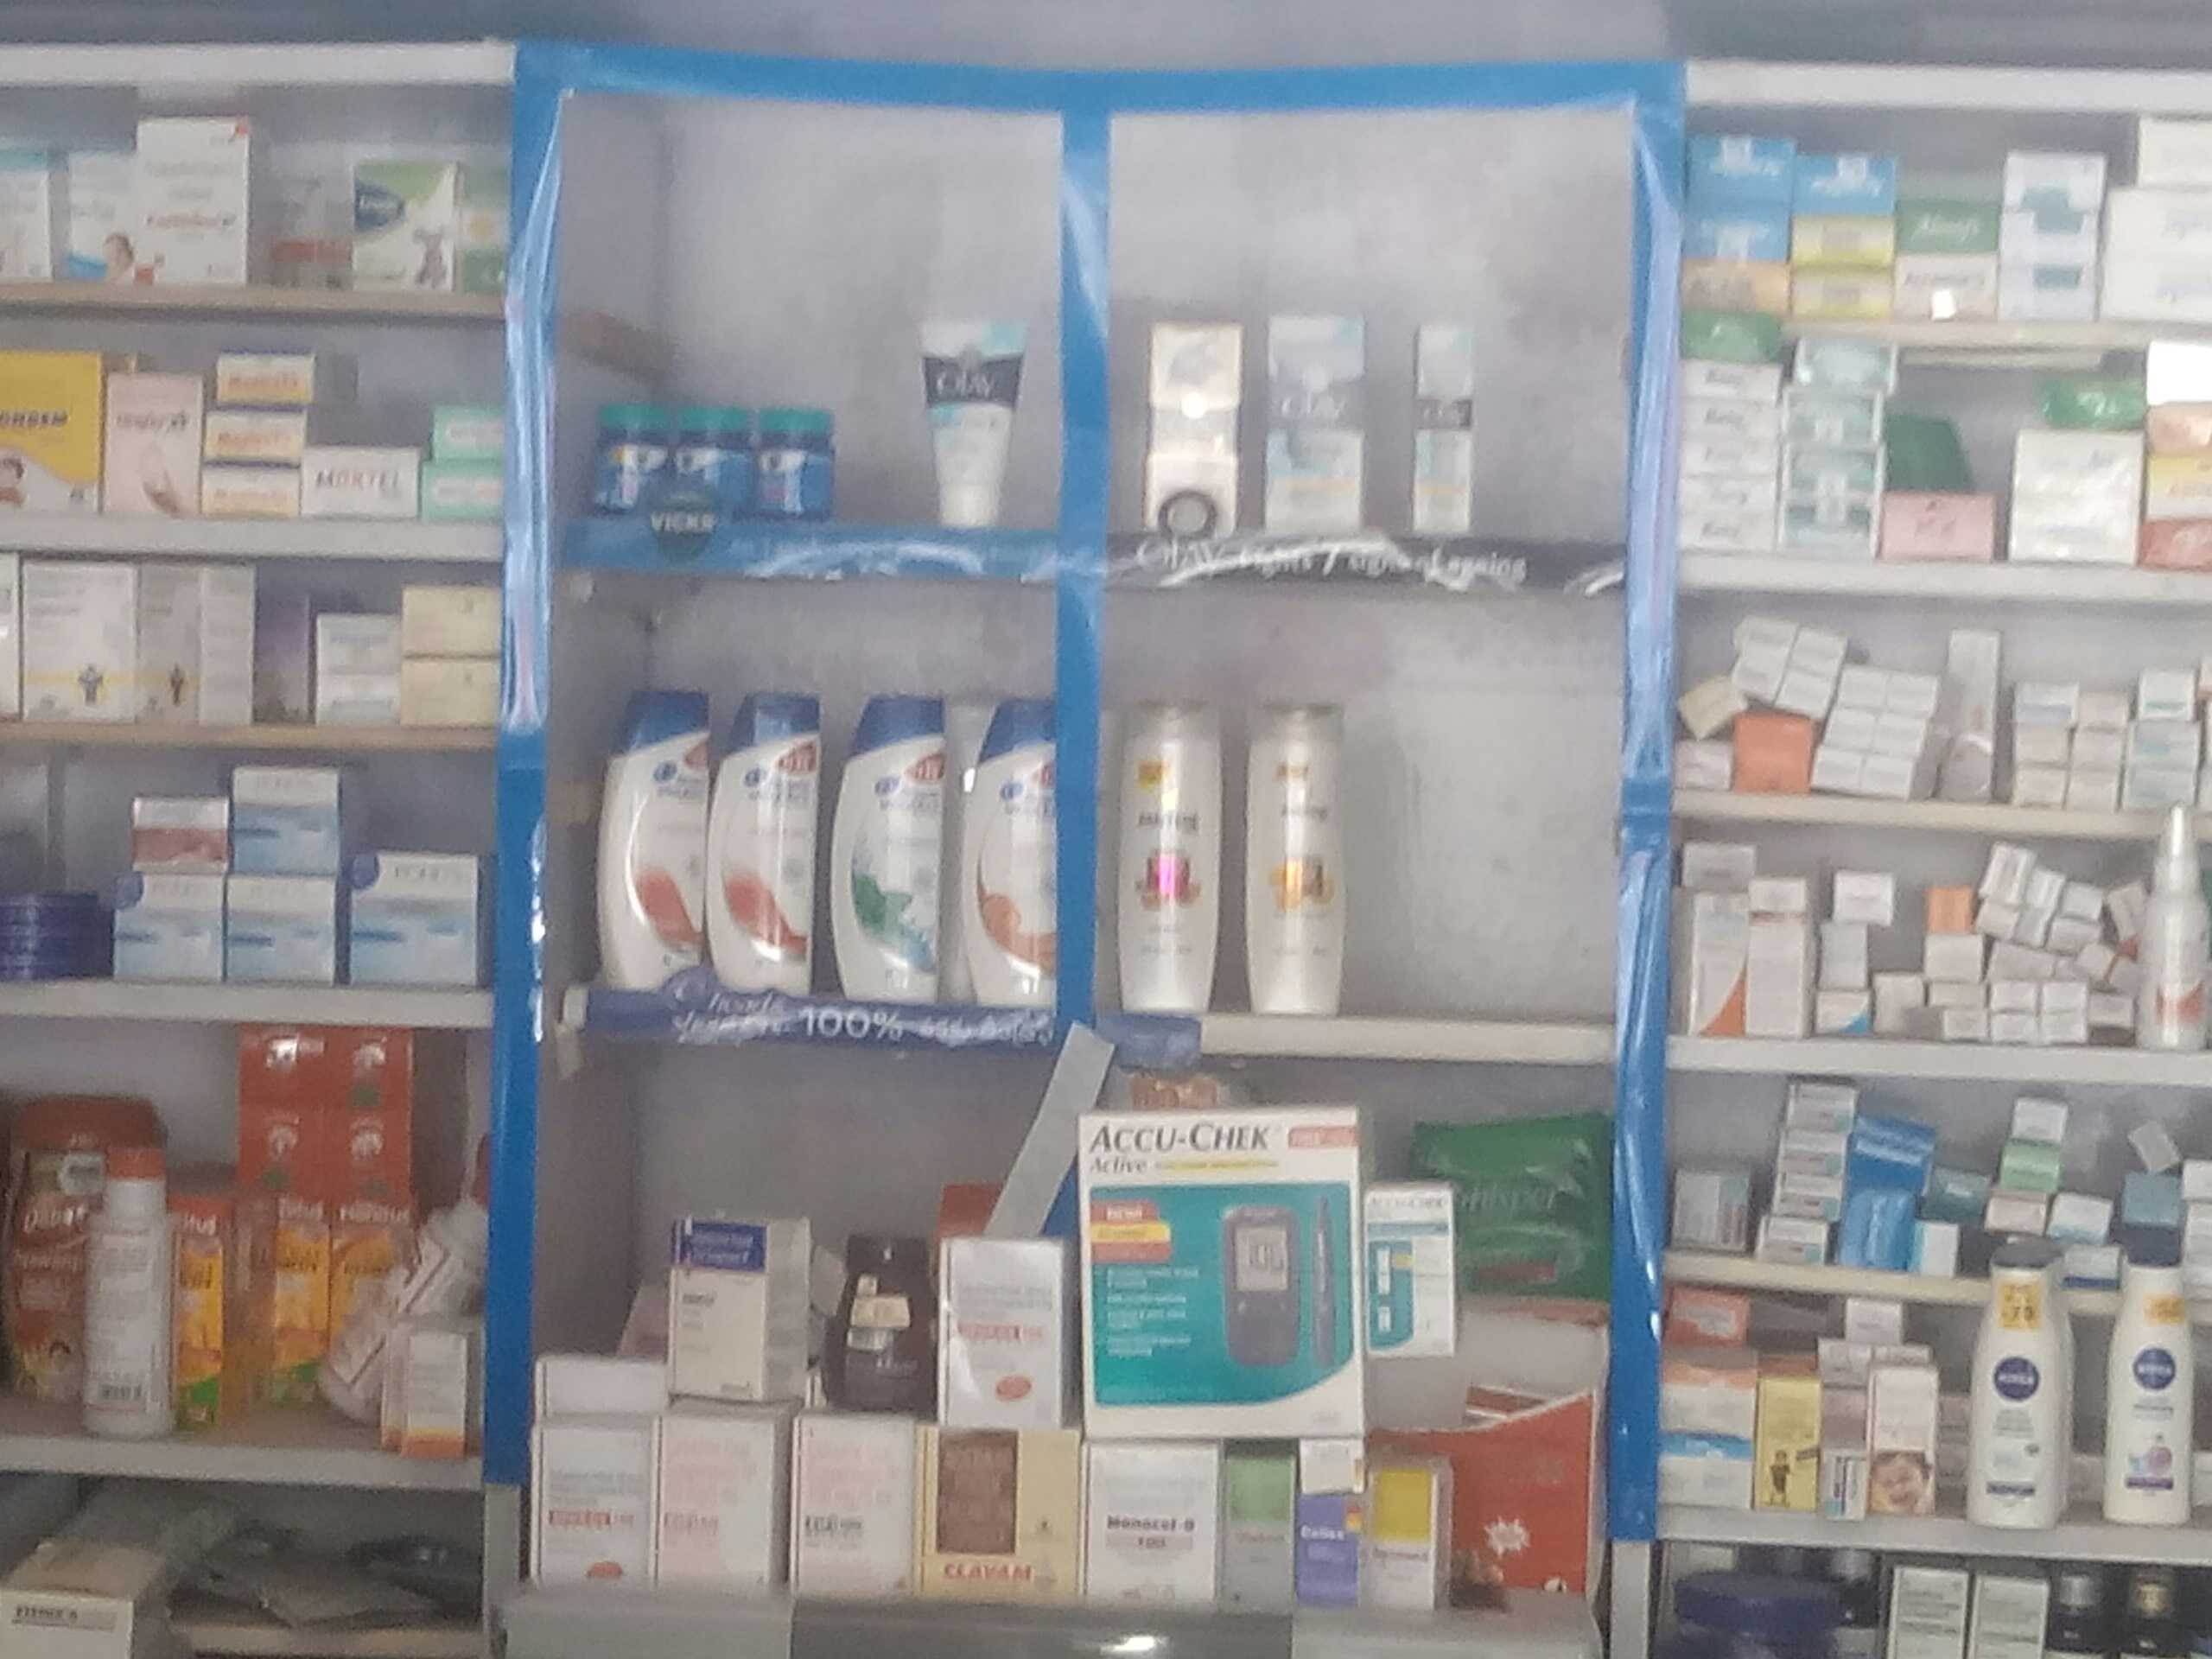beauty: (822, 688, 946, 1026), (937, 702, 1061, 1006), (1237, 702, 1350, 1026), (707, 680, 822, 992), (594, 685, 707, 992), (1129, 687, 1223, 1025), (1136, 307, 1252, 533), (1268, 312, 1379, 542), (920, 314, 1031, 523), (1399, 310, 1475, 565)
